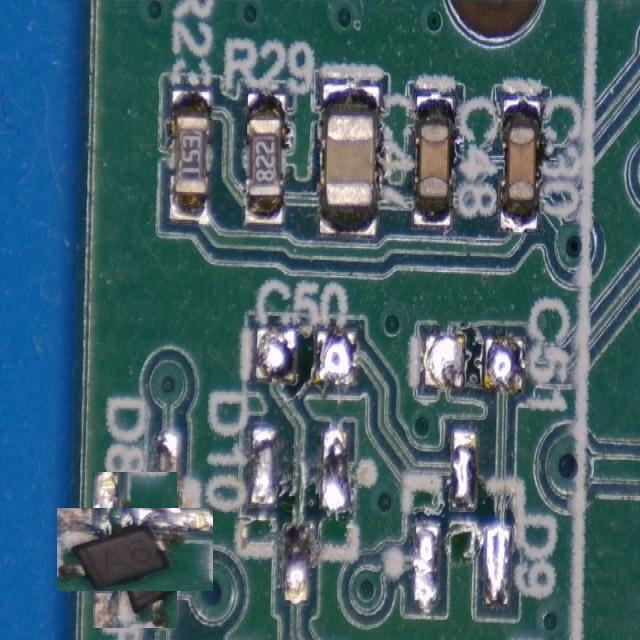Incorrect_installation: (57, 508, 212, 590)
